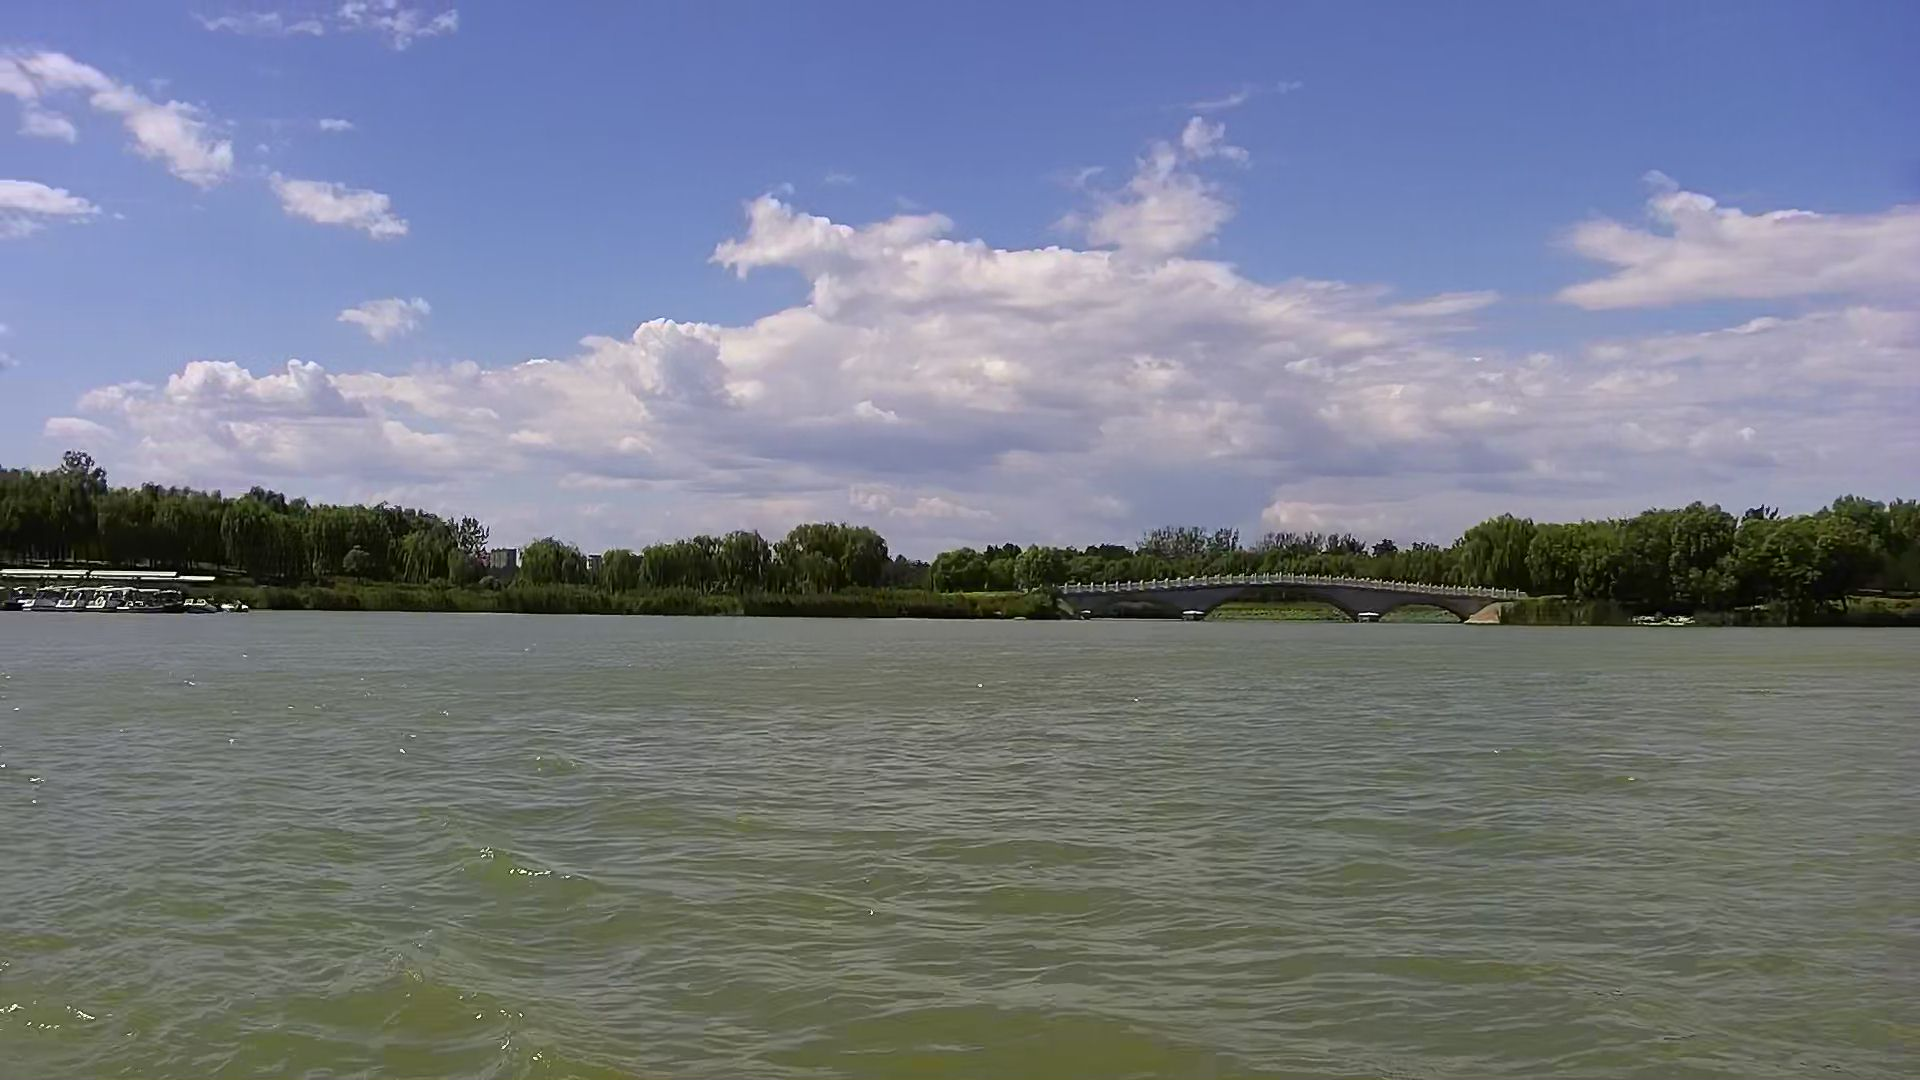bridge: (1048, 567, 1542, 634)
